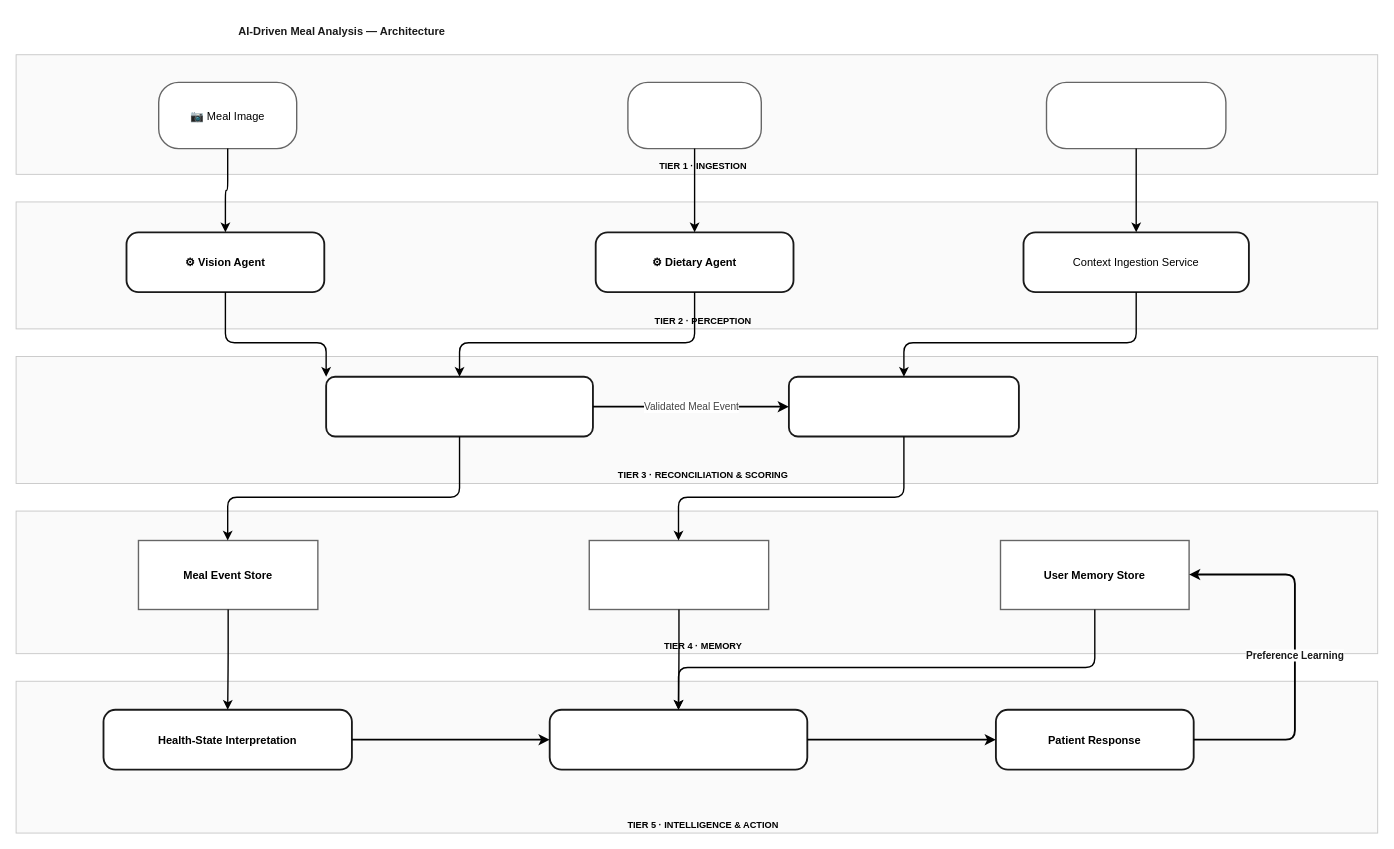
This 1394x849 diagram has some shape labels left out. Here are the shapes that lost their labels. From the top down, the centre of each, then its label:
At point (694, 115): "💬 User Text".
At point (1135, 115): "📍 Location + Context".
At point (459, 406): "Reconciliation & Canonicalization".
At point (903, 406): "Nutrition & Risk Scoring".
At point (678, 574): "Nutrition Store".
At point (678, 739): "Recommendation Engine".
